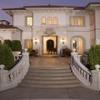stairs: (21, 63, 84, 93)
